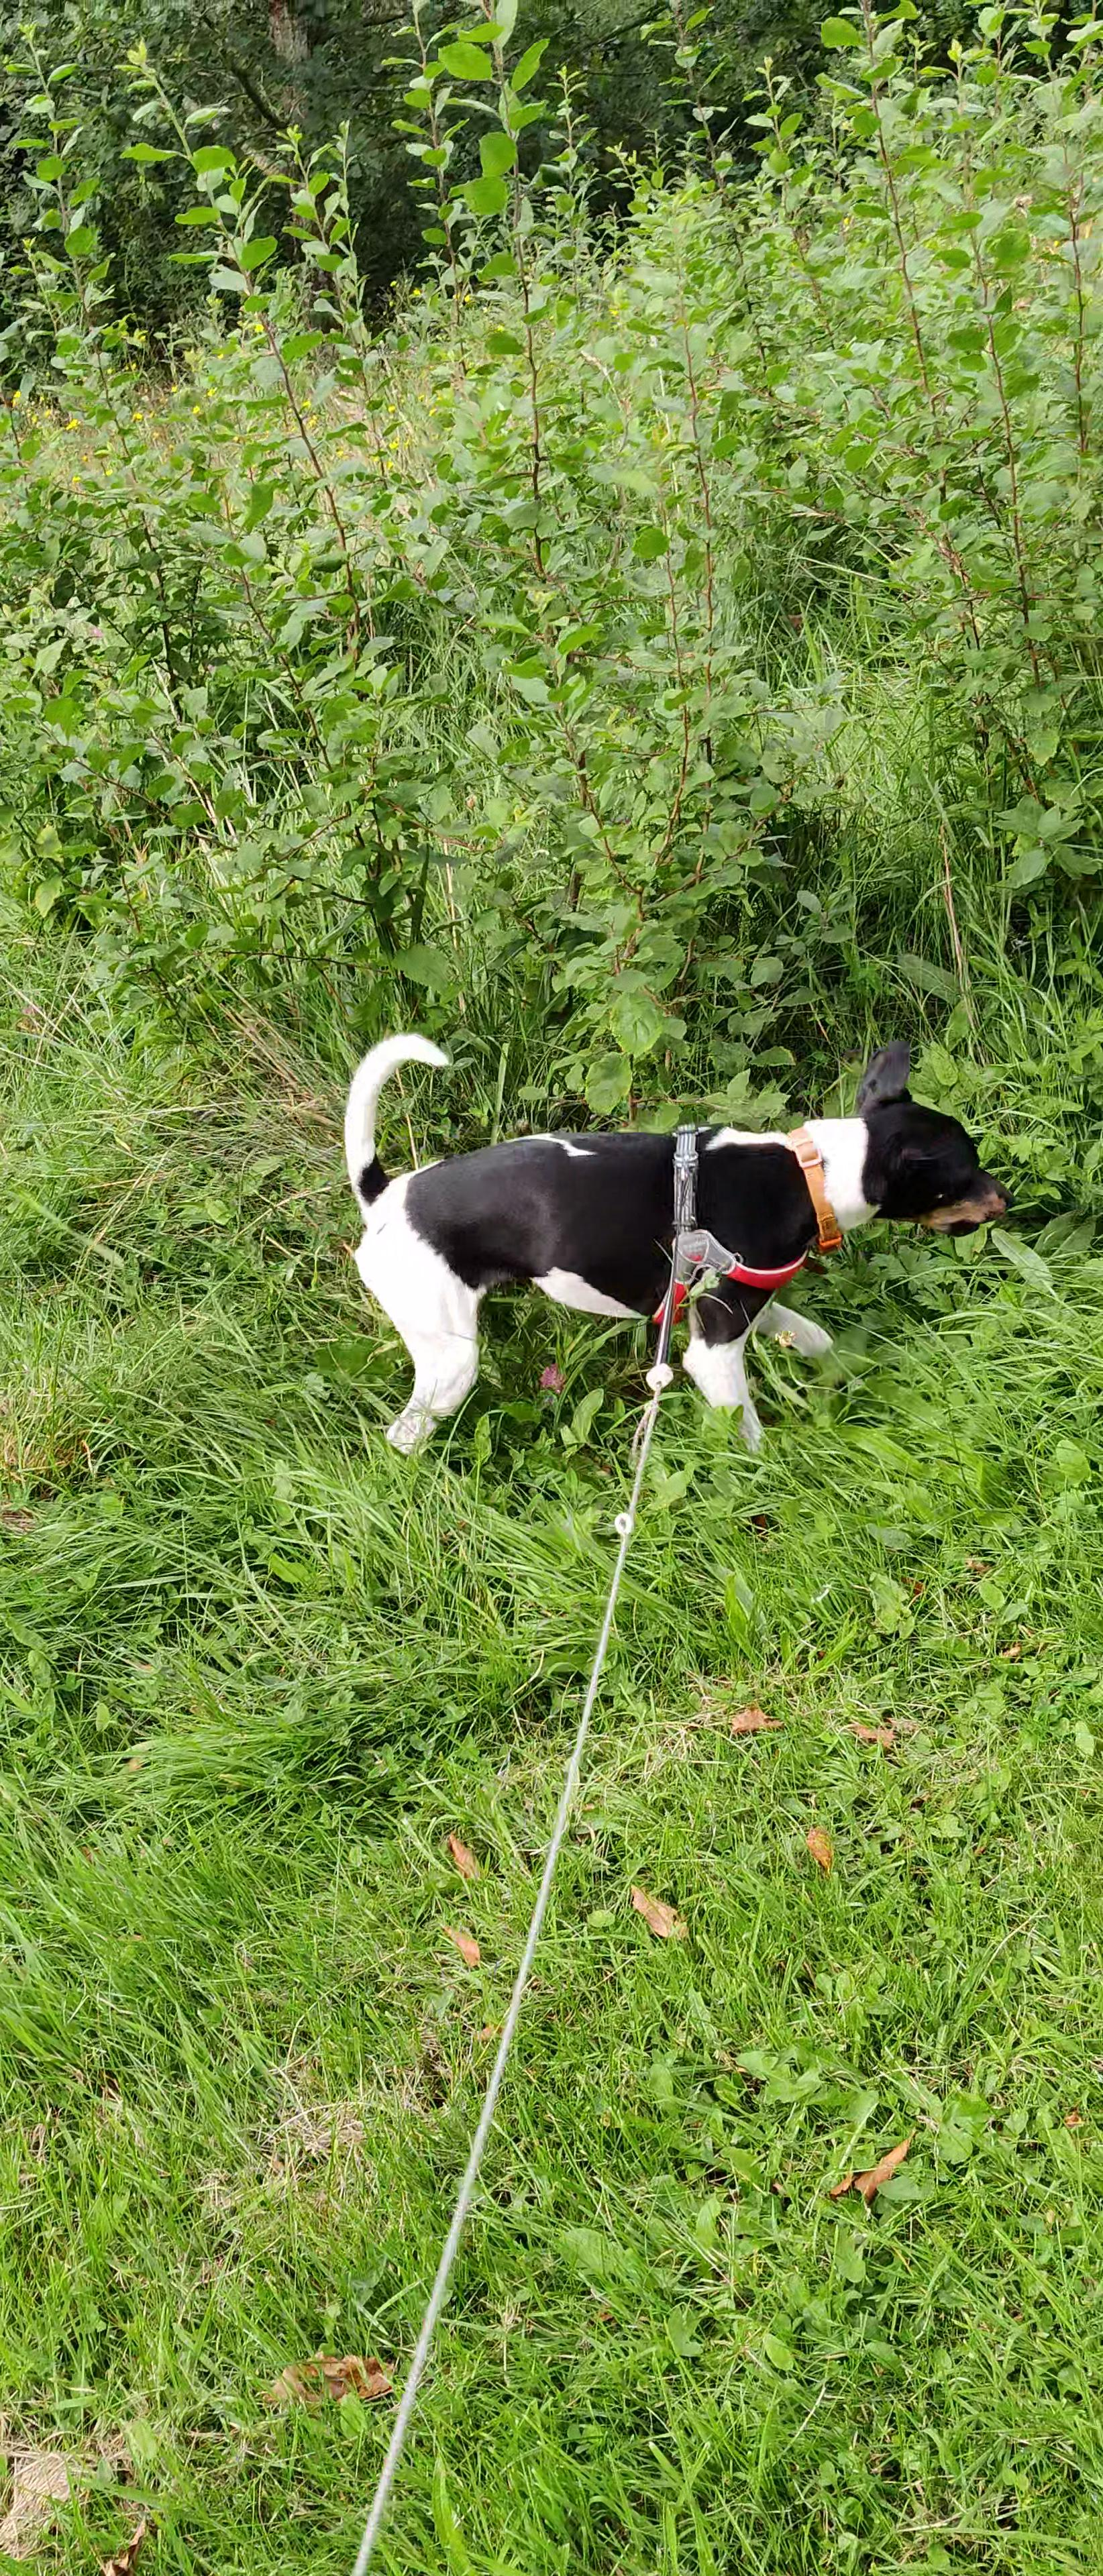Dog: (322, 1014, 1018, 1485)
